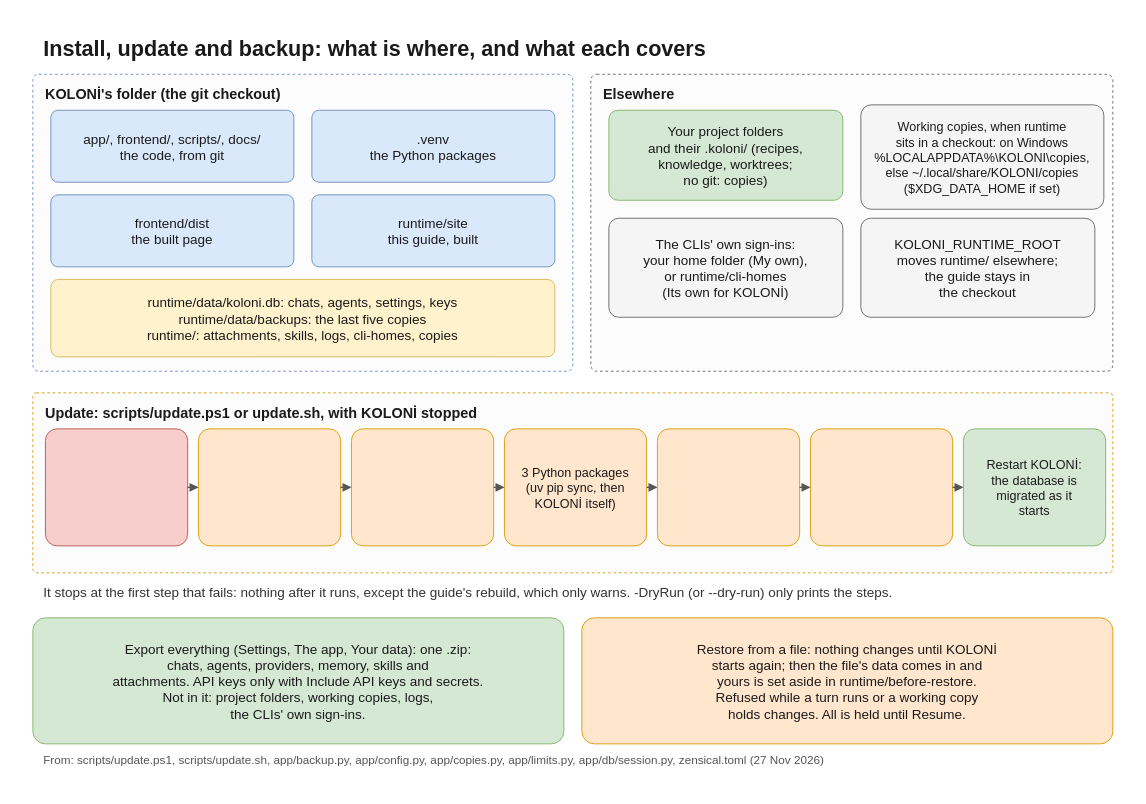
Some shapes in this 1146 by 804 pixel diagram are drawn without their labels. Here are the shapes that lost their labels. From the top down, the centre of each, then its label:
At pixel 116 487: "Refuses: not a git checkout, changes in KOLONİ's files, or something on its port".
At pixel 269 487: "1 Backs up the database to runtime/data/backups".
At pixel 422 487: "2 git pull --ff-only".
At pixel 728 487: "4 The page's packages, then builds the page".
At pixel 881 487: "5 Rebuilds this guide, where Zensical is installed".
